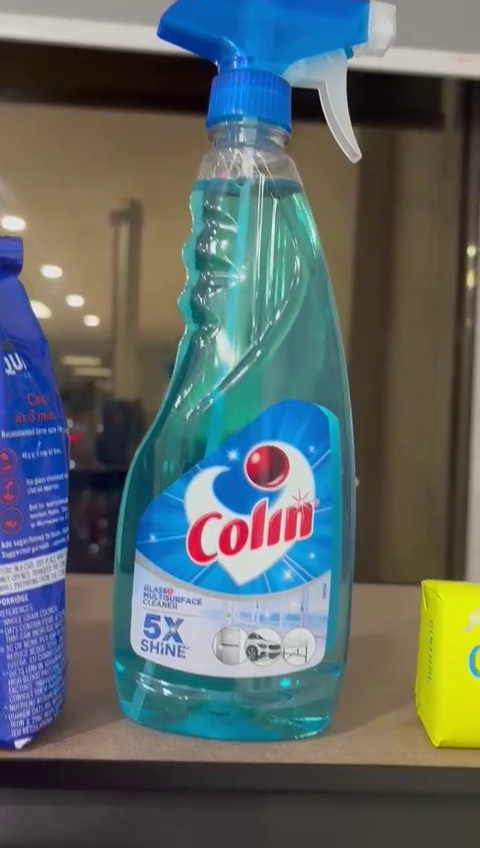Colin: (110, 9, 414, 749)
